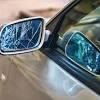Sidemirror-Damage: (0, 17, 46, 54)
